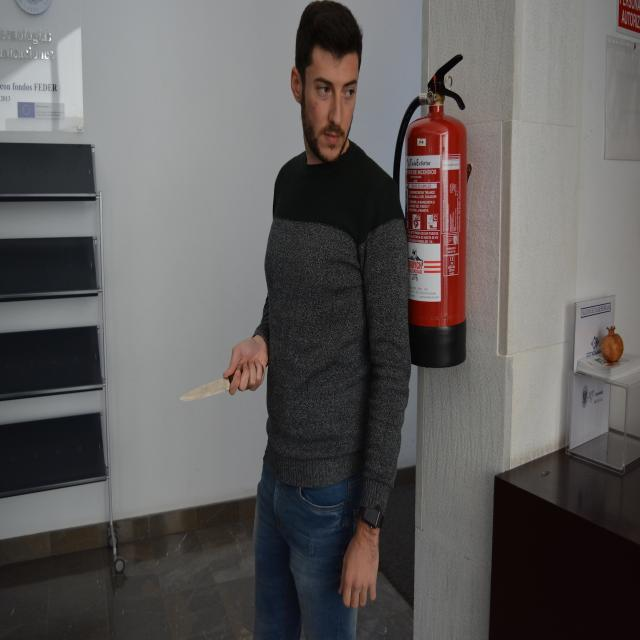knife: (182, 371, 231, 410)
